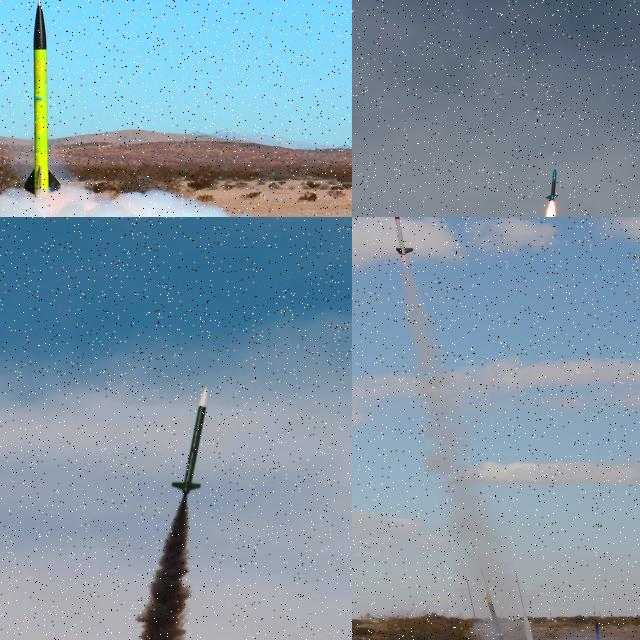Rocket: (22, 0, 62, 197), (171, 386, 208, 494), (392, 217, 414, 255), (545, 168, 558, 202)
